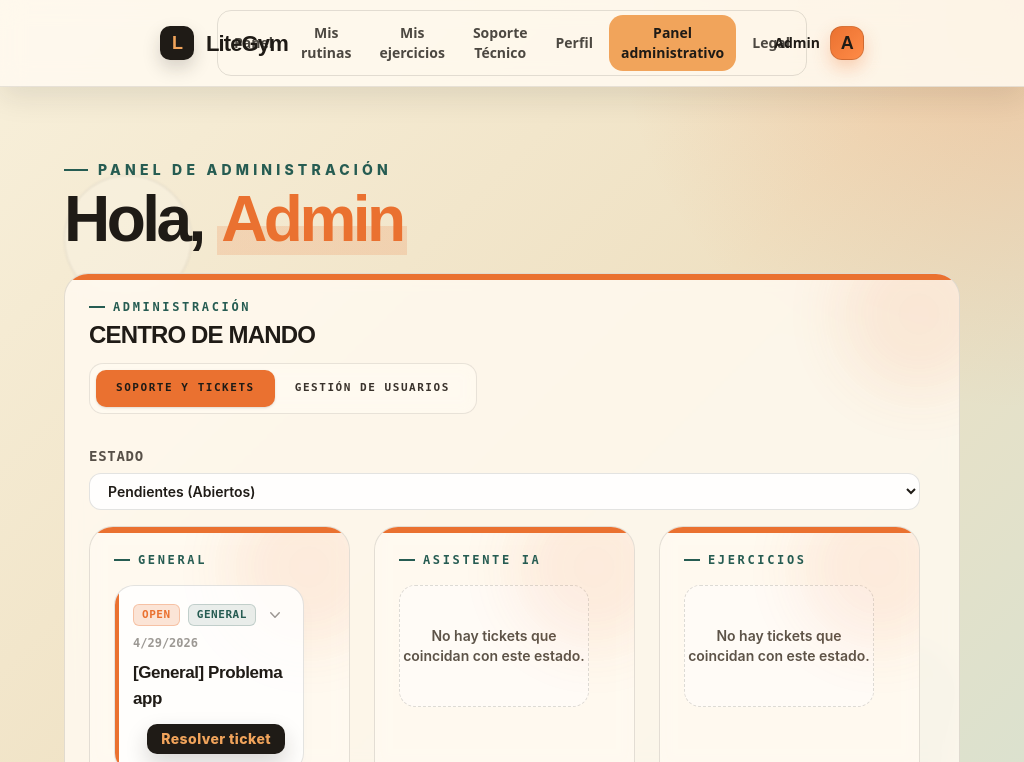
Test: AdminPage › switches to users tab and fetches users
Click the button "Gestión de Usuarios" at point(372, 388), box [275, 370, 470, 407]
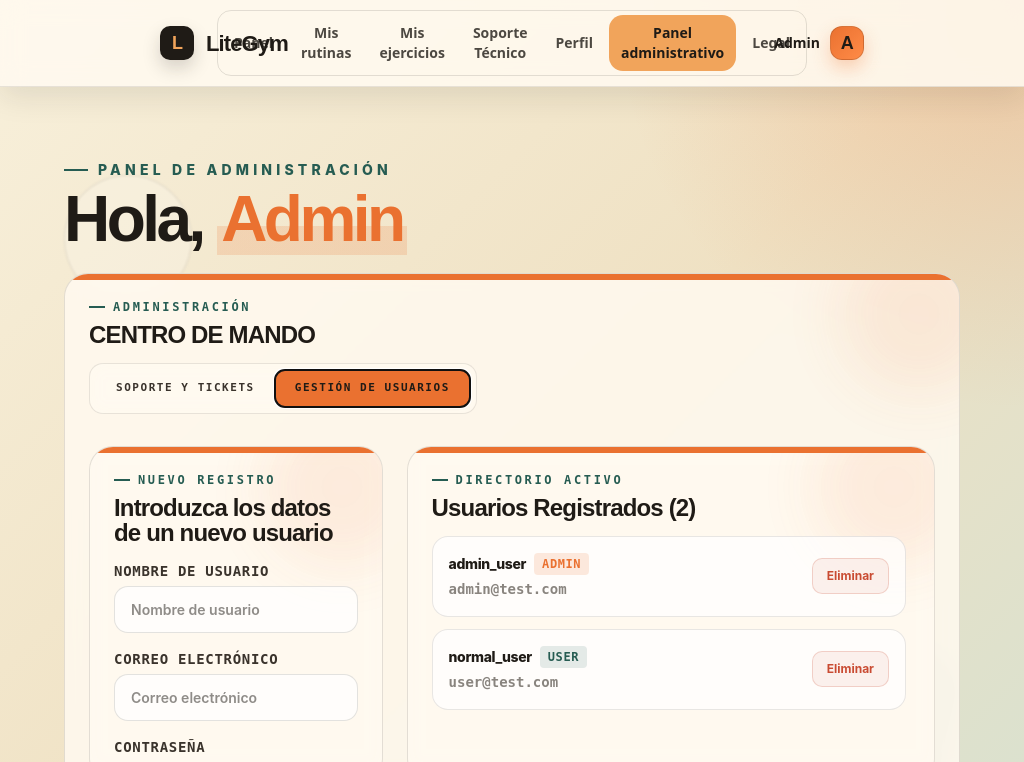
Result: the heading "Usuarios Registrados (2)" is shown at [432, 495, 696, 520]
Result: the text "admin_user" is shown at [449, 553, 526, 574]
Result: the text "normal_user" is shown at [449, 646, 532, 667]
